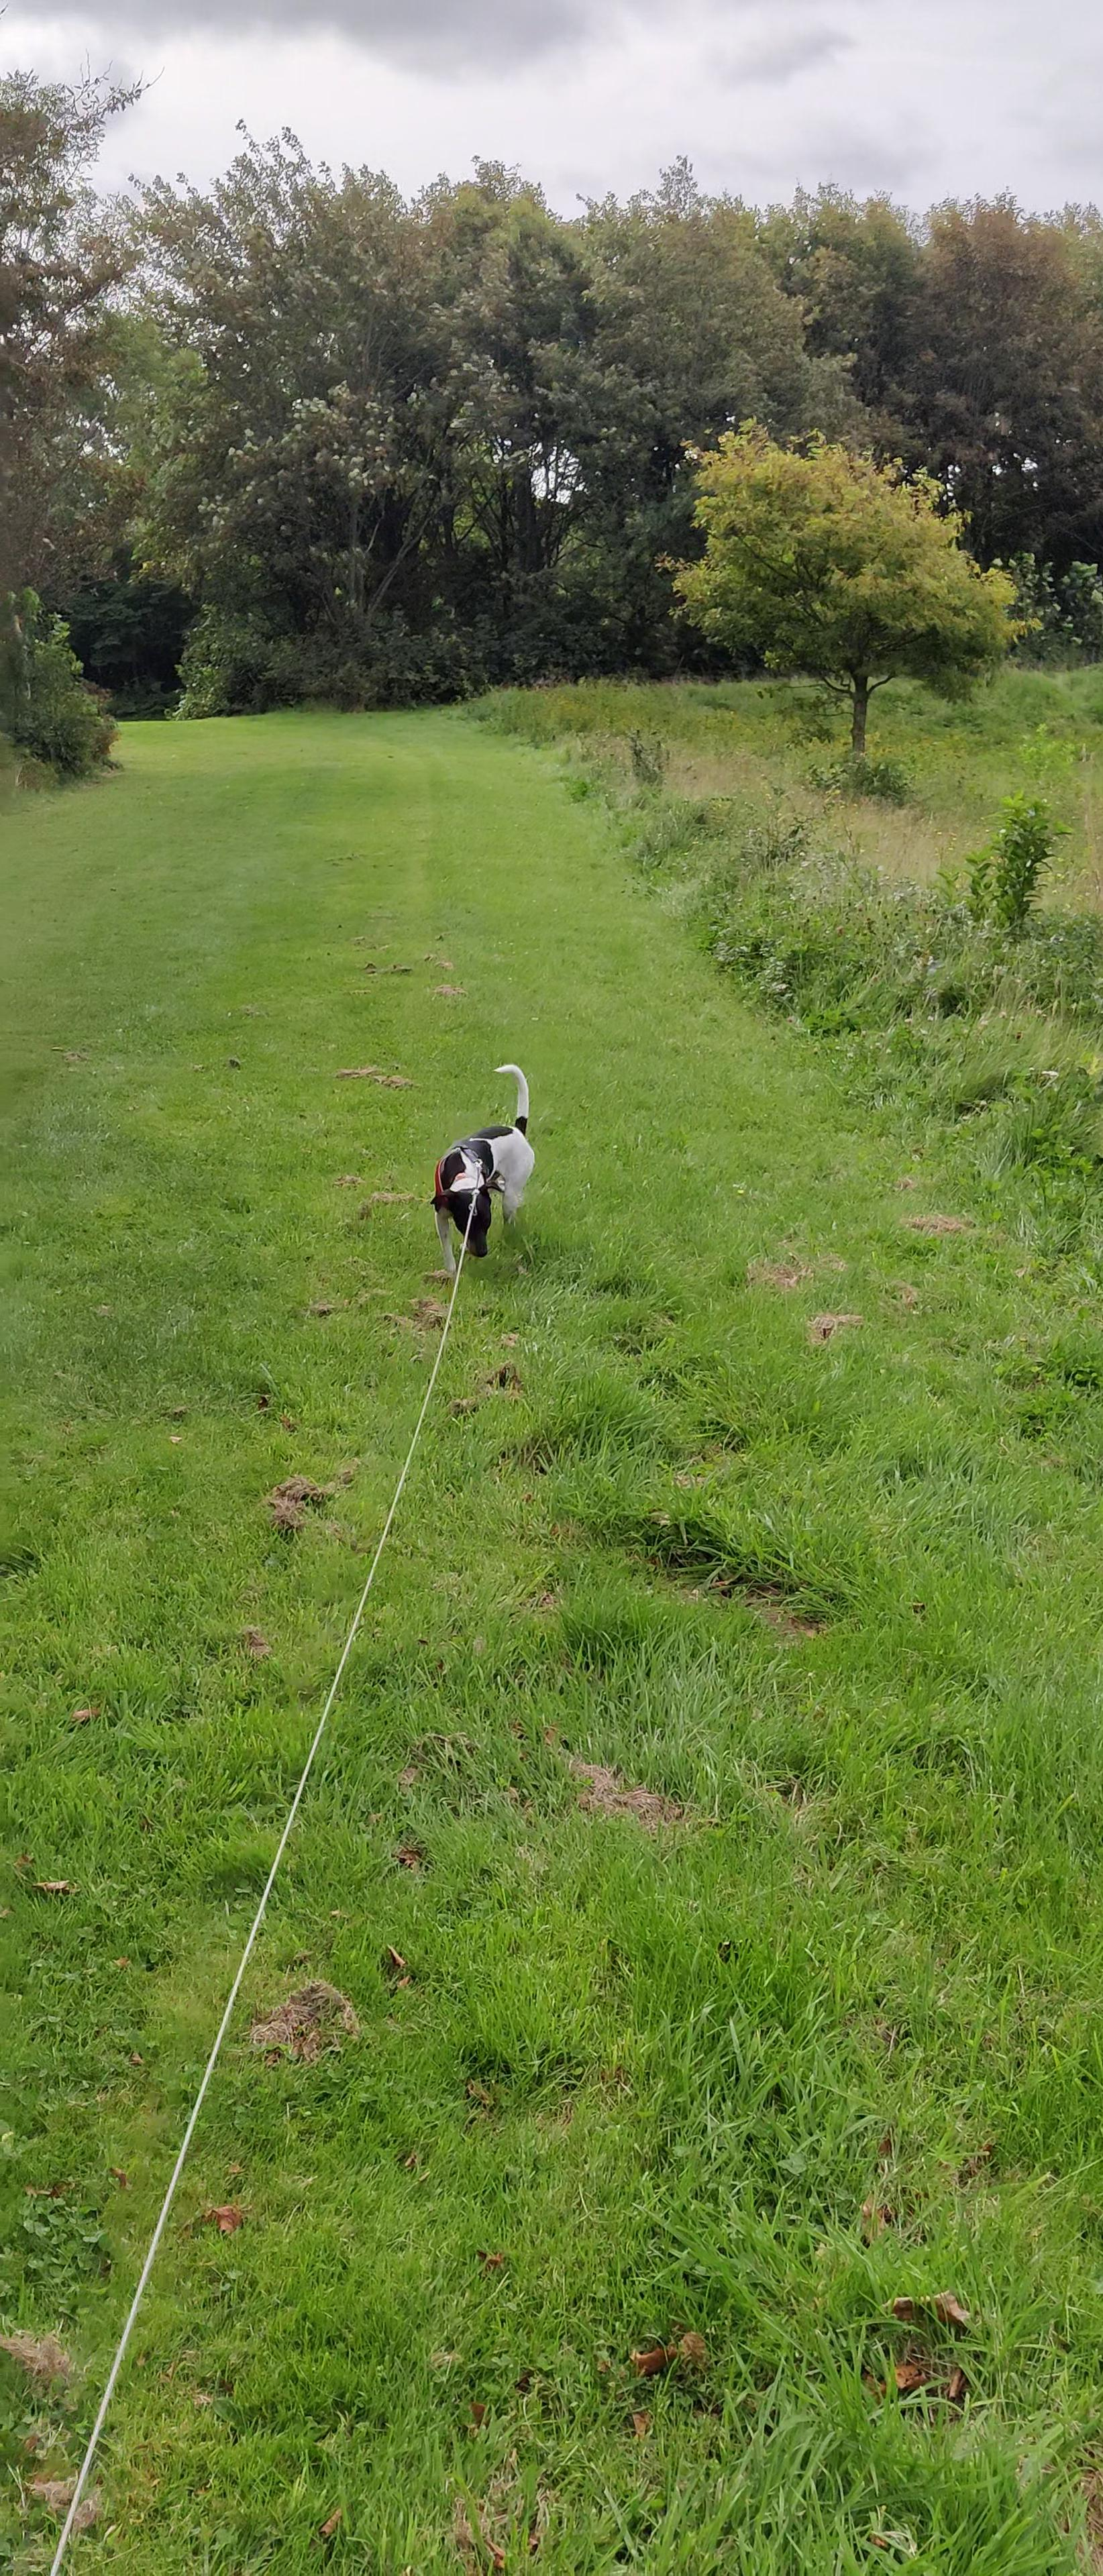Dog: (427, 1058, 536, 1268)
